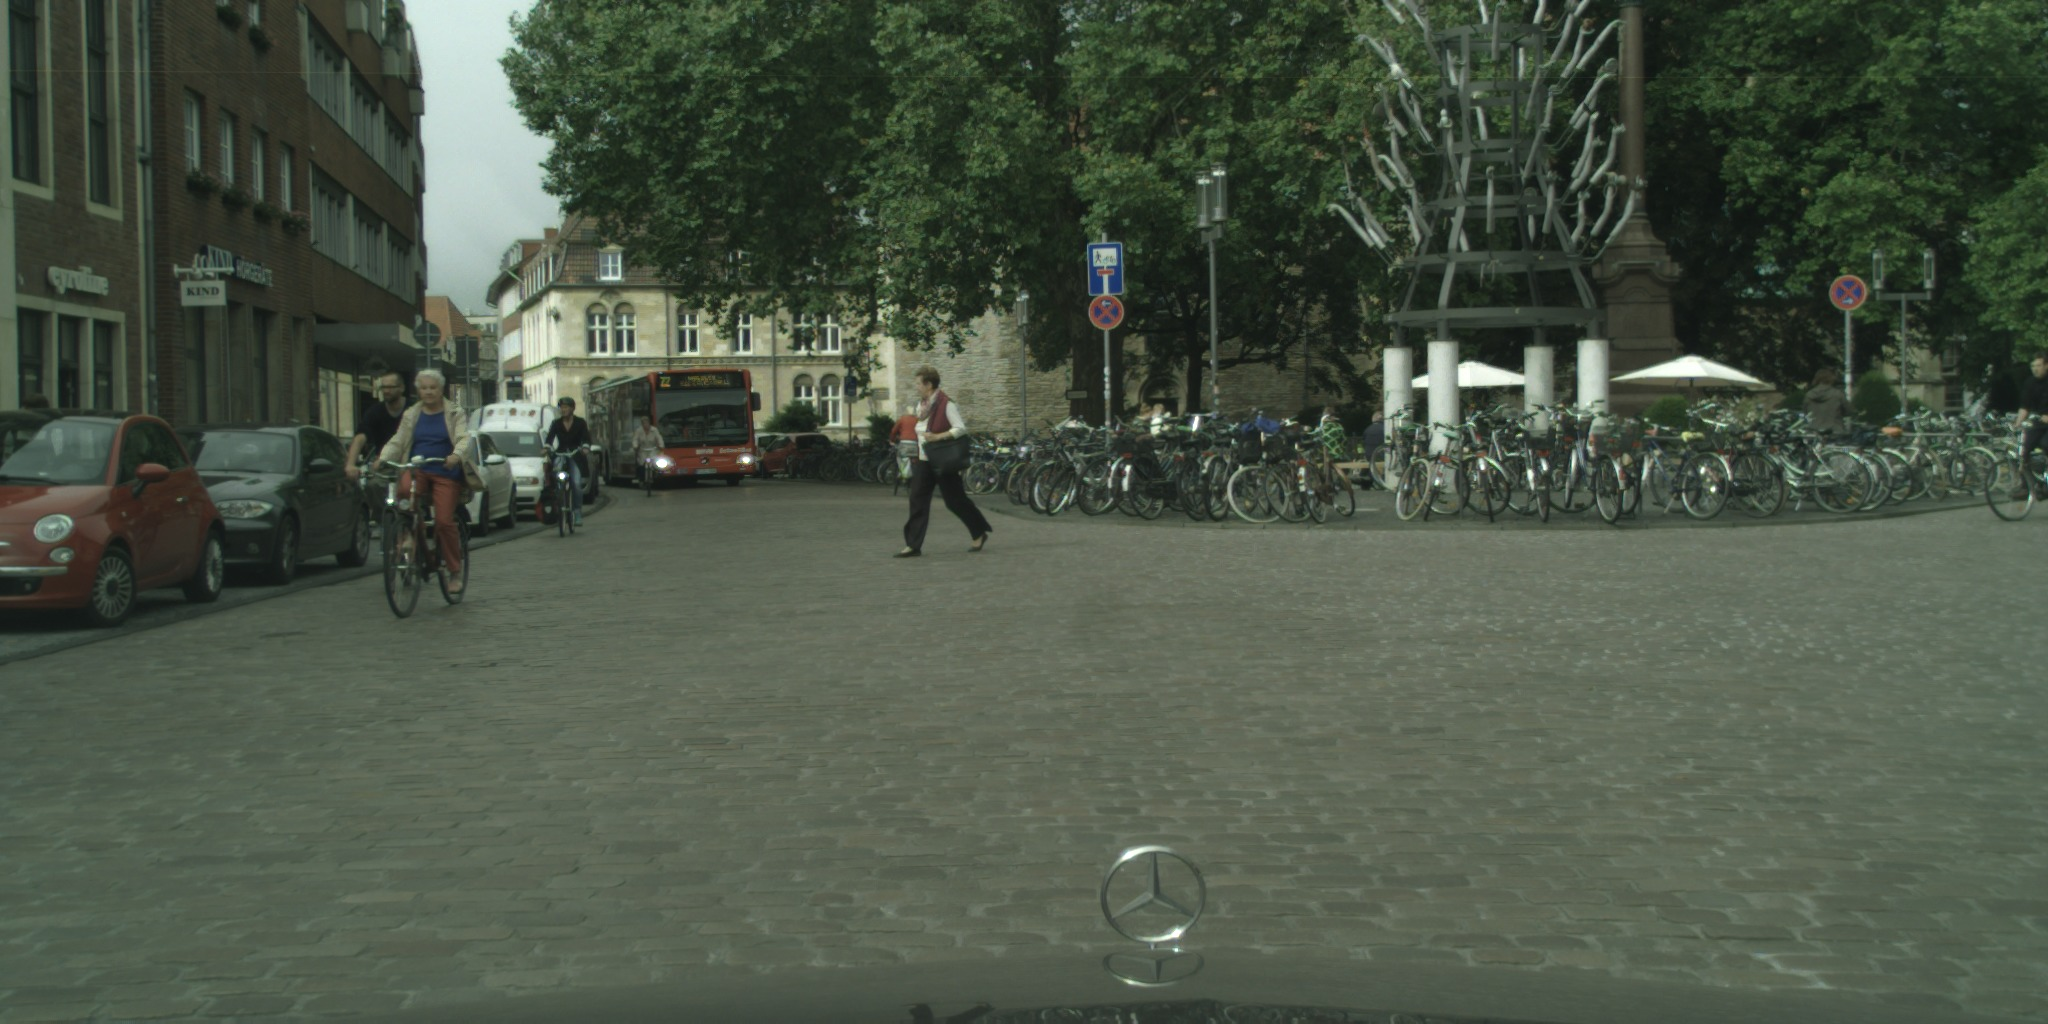bicycle: (379, 456, 472, 620), (1984, 413, 2048, 521), (355, 466, 409, 561), (549, 445, 591, 538), (888, 441, 926, 500), (631, 447, 666, 498)
bus: (584, 369, 761, 490)
car: (0, 409, 225, 629), (167, 422, 371, 585), (350, 430, 518, 538), (463, 401, 575, 518), (760, 433, 833, 480), (565, 433, 602, 505), (745, 432, 787, 479)
person: (892, 365, 994, 559), (1798, 369, 1865, 450), (1360, 411, 1393, 493), (1320, 406, 1351, 484), (18, 393, 52, 425), (1151, 403, 1166, 420), (1140, 403, 1154, 420)
rider: (370, 368, 488, 594), (344, 371, 426, 531), (535, 397, 592, 527), (2013, 351, 2048, 502), (889, 406, 925, 480), (632, 416, 666, 490)
